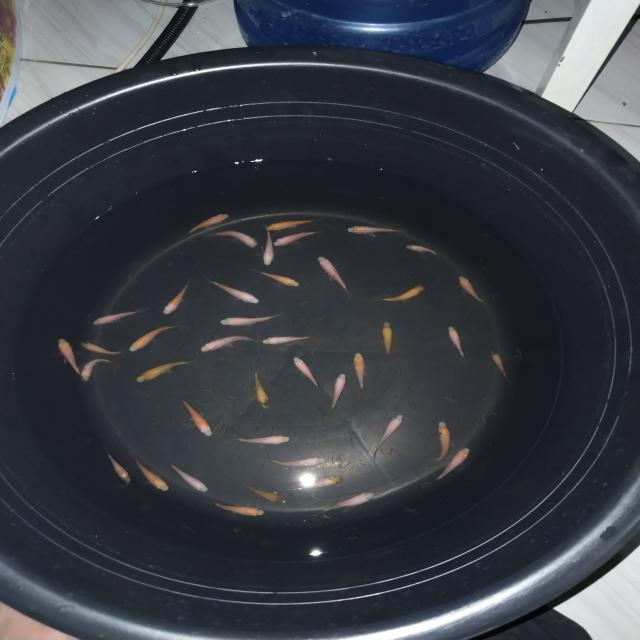nila: (428, 442, 476, 482), (312, 254, 352, 298), (372, 411, 406, 462), (125, 322, 176, 355), (177, 210, 232, 240), (208, 280, 266, 308), (178, 396, 215, 439), (134, 456, 172, 496), (100, 451, 138, 491), (160, 276, 196, 318), (318, 490, 376, 516), (134, 358, 191, 384), (207, 227, 262, 253), (287, 472, 345, 496), (198, 332, 258, 355), (438, 324, 472, 364), (54, 336, 84, 380), (170, 462, 210, 494), (253, 265, 300, 292), (90, 305, 144, 328), (425, 420, 453, 464), (456, 274, 492, 308), (289, 356, 322, 392), (347, 352, 370, 402), (210, 499, 270, 518), (372, 282, 428, 302), (262, 213, 315, 233), (270, 228, 318, 250), (327, 372, 350, 417), (242, 483, 286, 506), (78, 338, 124, 360), (250, 370, 274, 412), (216, 314, 286, 328), (78, 358, 116, 383), (236, 432, 291, 449), (266, 455, 328, 470), (484, 348, 514, 378), (258, 226, 278, 270), (340, 223, 402, 237), (260, 332, 310, 348), (379, 320, 395, 360), (403, 244, 441, 258)
